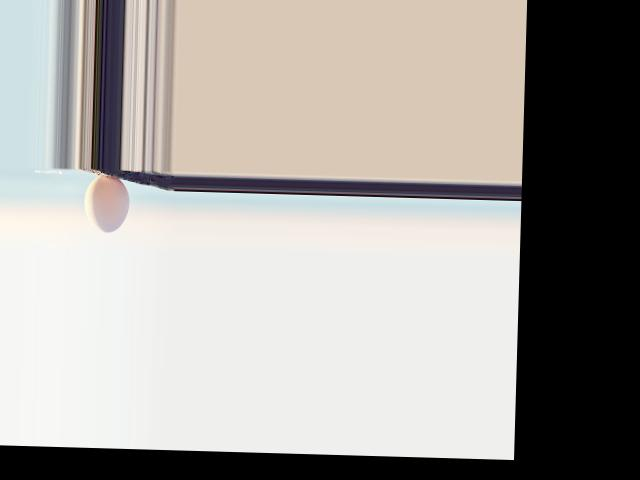egg: (82, 175, 130, 233)
